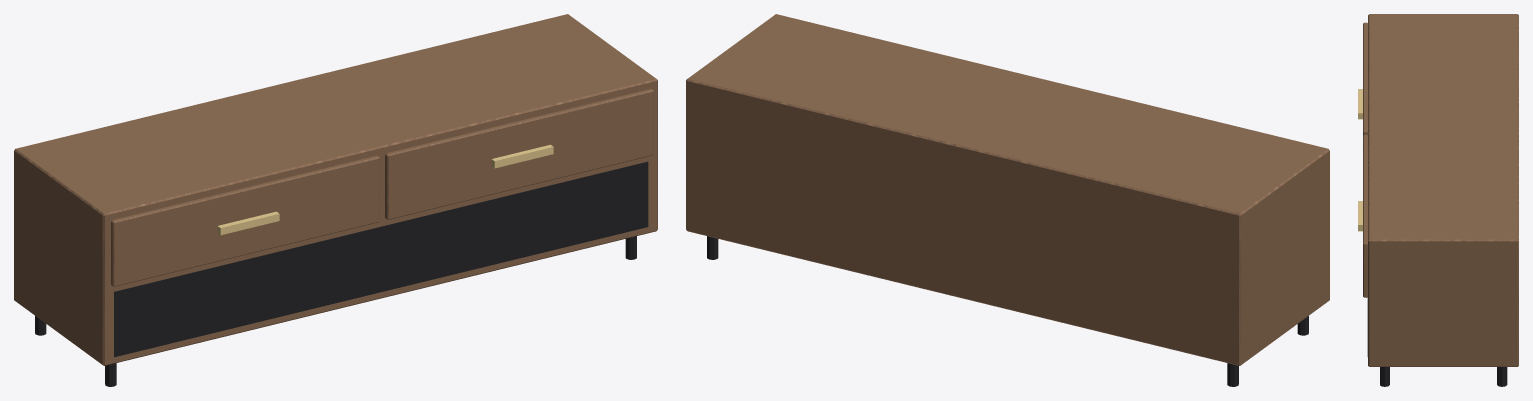
Rendered from tv_unit.glb.
The picture shows the model from 3 angles, left to right: view 1: azimuth 30°, elevation 25°; view 2: azimuth 150°, elevation 25°; view 3: azimuth 270°, elevation 25°; orthographic projection. The views are drawn at different scales.
Visible parts, largest first — view 1: tv_unit; view 2: tv_unit; view 3: tv_unit.
Boxes of the visible parts, bbox=[...] form: tv_unit: bbox=[14, 14, 657, 386]; tv_unit: bbox=[686, 14, 1329, 386]; tv_unit: bbox=[1358, 14, 1518, 386].
Bounding box in the file's own units: 1.6 × 0.5 × 0.48.
3 materials, 1 textured.
